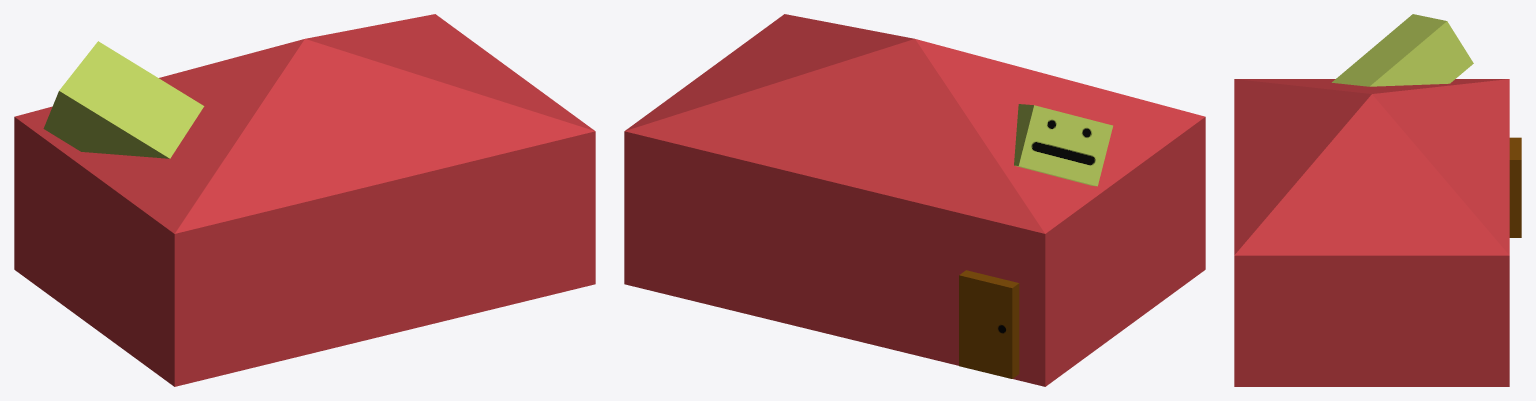
File: house.obj
3 renders of one model, left to right at view 1: azimuth 30°, elevation 25°; view 2: azimuth 150°, elevation 25°; view 3: azimuth 270°, elevation 25°, orthographic. The views are drawn at different scales.
Visible parts, largest first — view 1: house, car; view 2: house, door, car; view 3: house, car, door.
Boxes of the visible parts, left/top/right/bottom form: house: left=14, top=14, right=595, bottom=386; car: left=43, top=41, right=204, bottom=158; house: left=624, top=14, right=1205, bottom=386; door: left=959, top=270, right=1019, bottom=378; car: left=1014, top=104, right=1112, bottom=186; house: left=1234, top=79, right=1509, bottom=386; car: left=1332, top=14, right=1473, bottom=86; door: left=1509, top=137, right=1521, bottom=237.
Bounding box in the file's own units: 1.34 × 0.7187 × 0.8942.
